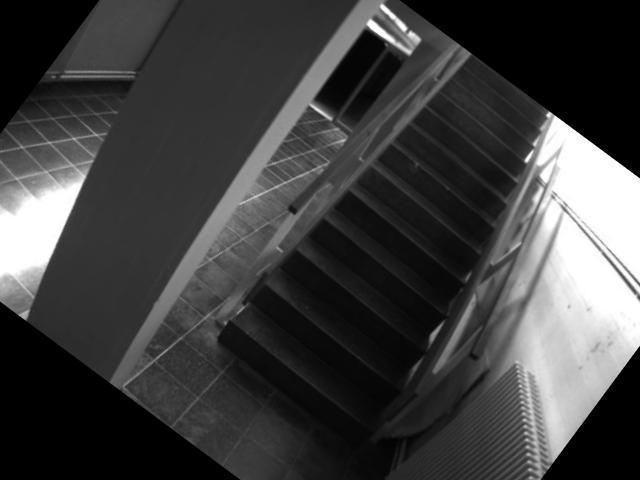Escaleras: (214, 25, 608, 452)
